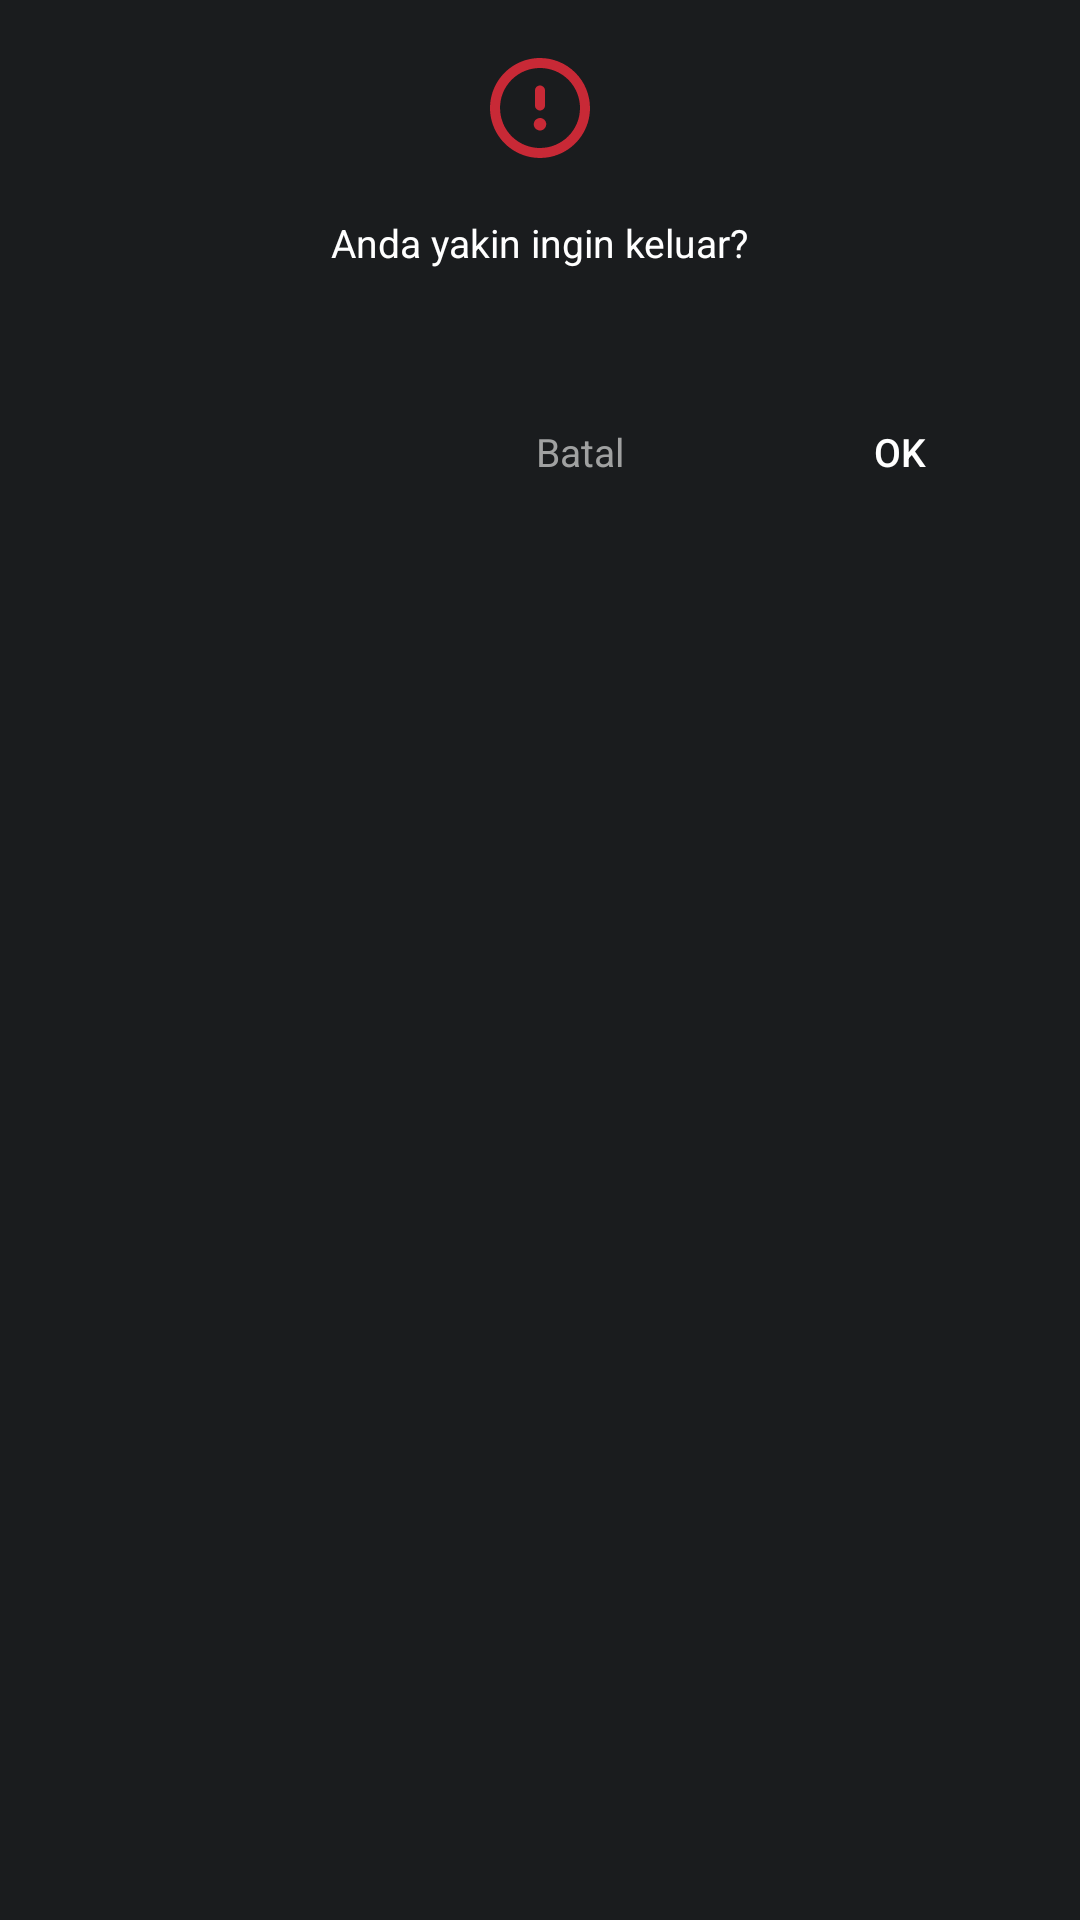

Point at icon controls on the screen. Image size 1080px×1920px, points as (x=x, y=y).
alert: (x=540, y=108)
